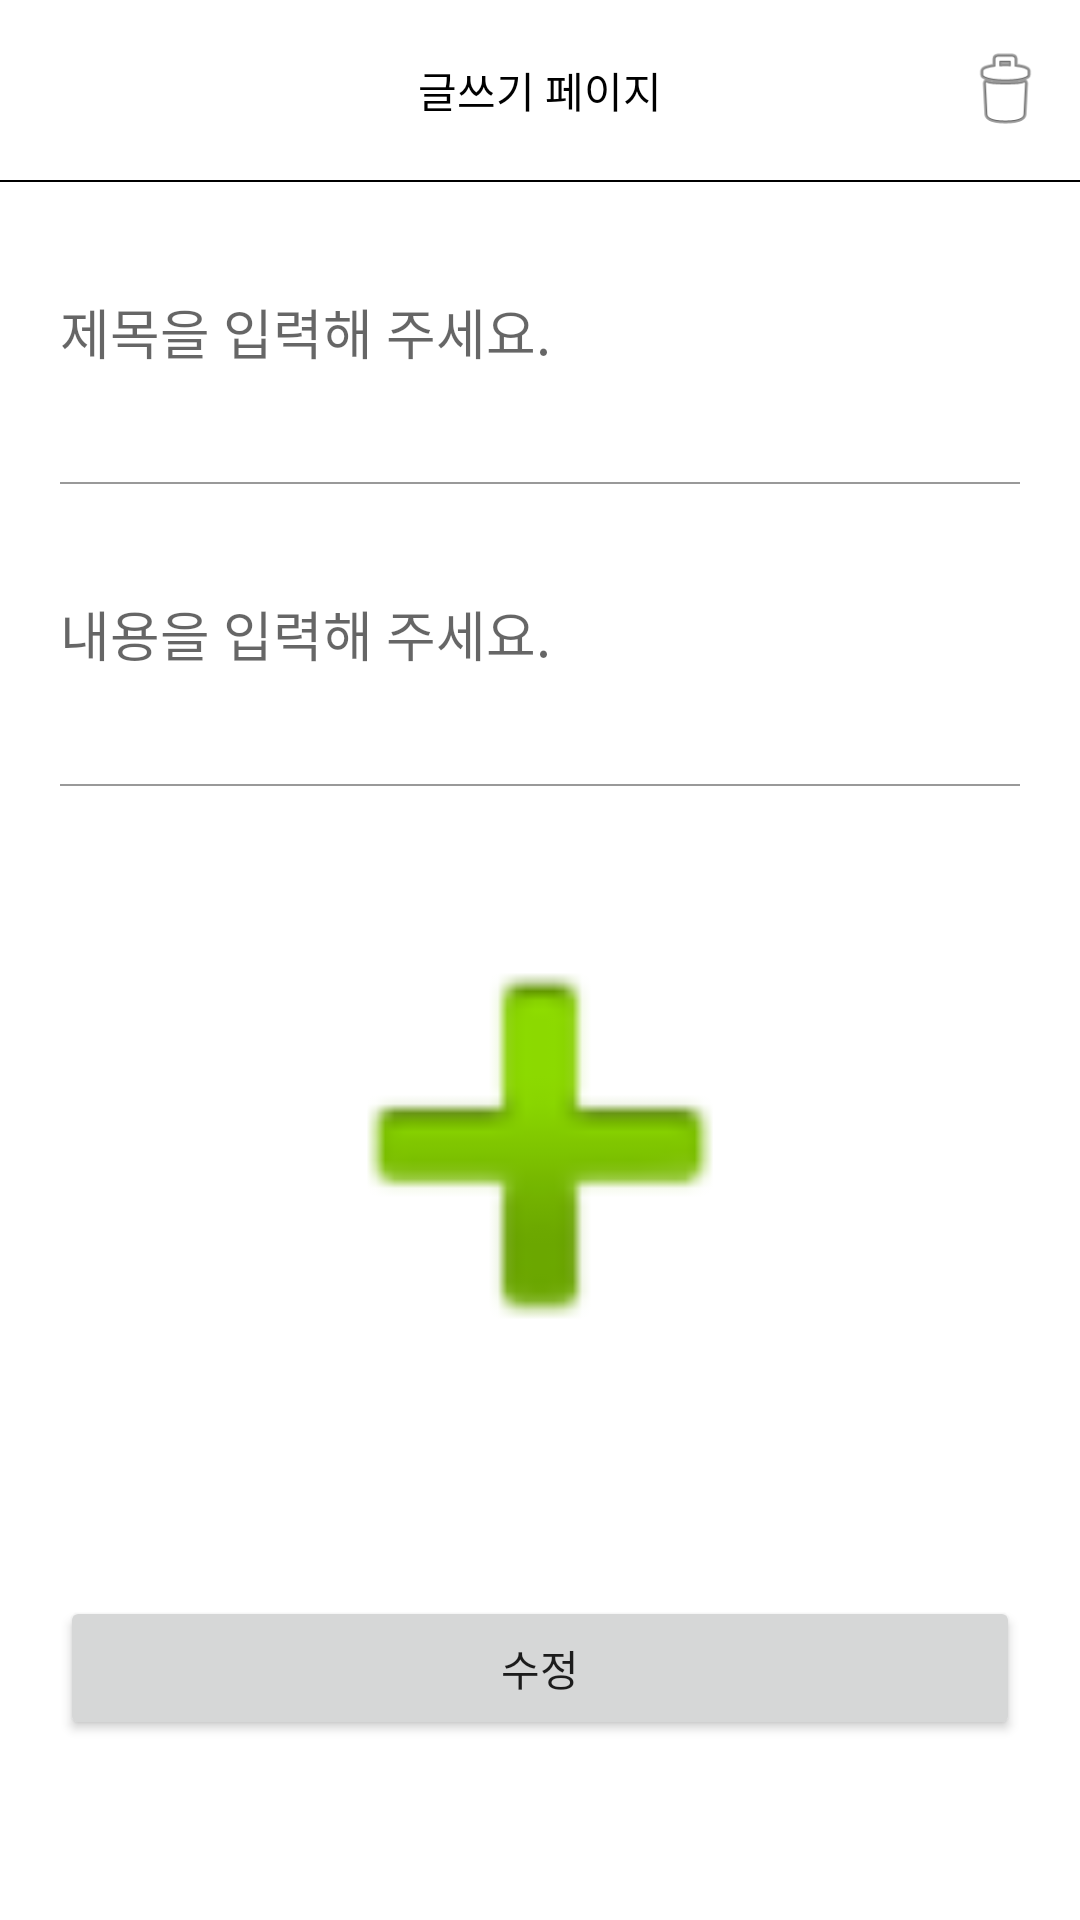

Screen size 1080 × 1920. Icon name, then its center in pixels as point (x, y):
delete: point (1005, 88)
